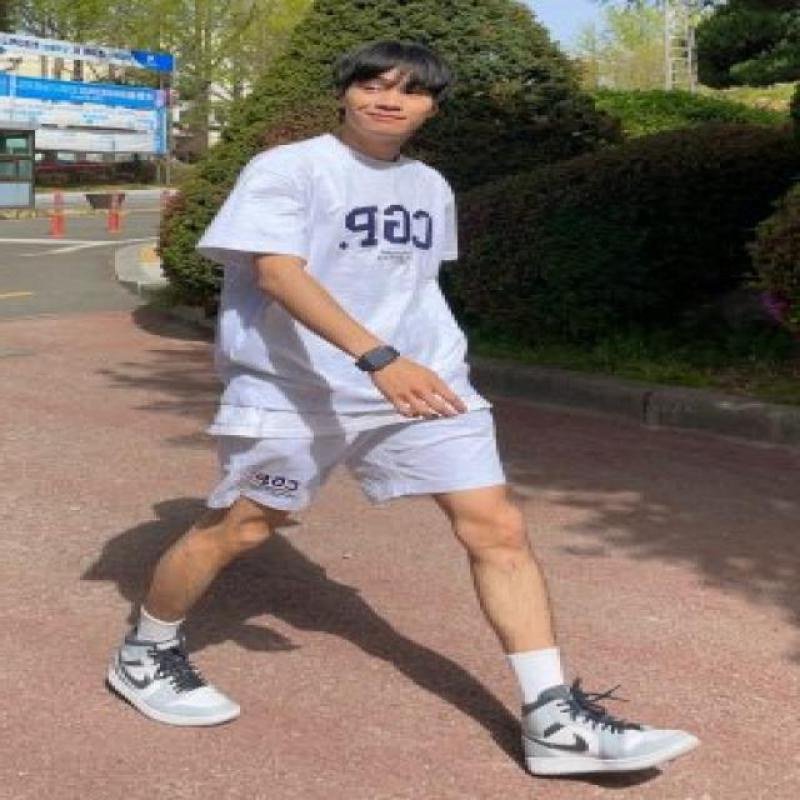Shorts: (203, 403, 503, 516)
short sleeve shirt: (193, 133, 497, 418)
